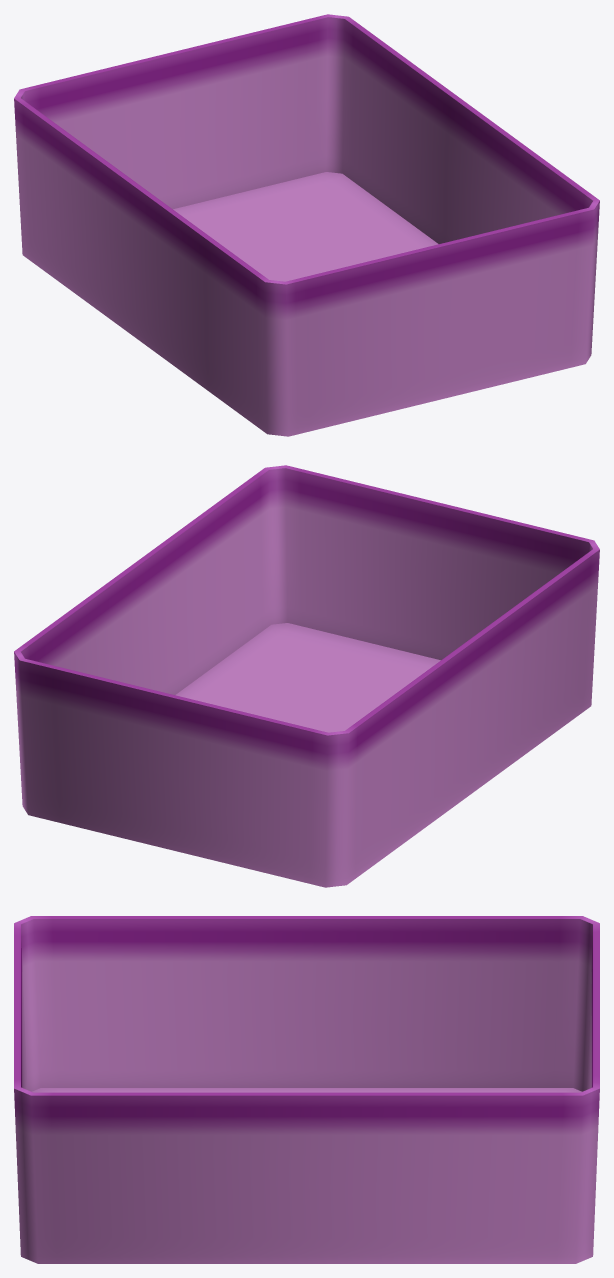
Rendered from jsf_Bat_04.fbx.
3 renders of one model, top to bottom at view 1: azimuth 30°, elevation 25°; view 2: azimuth 150°, elevation 25°; view 3: azimuth 270°, elevation 25°, orthographic. The views are drawn at different scales.
Visible parts, largest first — view 1: jsf_Bat_04; view 2: jsf_Bat_04; view 3: jsf_Bat_04.
Boxes of the visible parts, x1,y1,x2,y2 form: jsf_Bat_04: (14, 14, 599, 436); jsf_Bat_04: (14, 465, 599, 887); jsf_Bat_04: (14, 916, 599, 1263).
Bounding box in the file's own units: 9.52 × 4.23 × 13.12.
